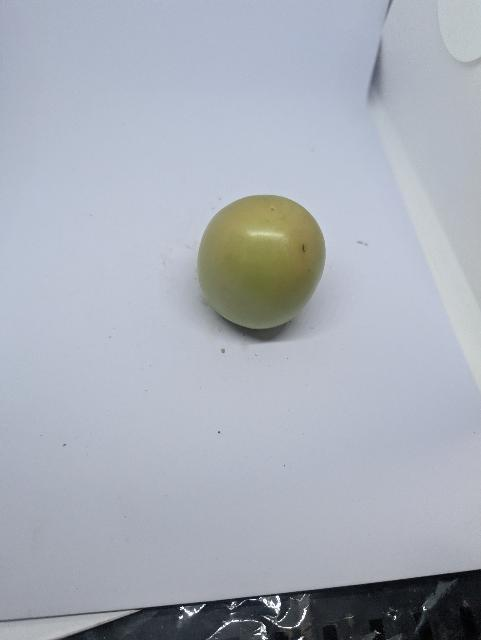green: (195, 192, 330, 331)
